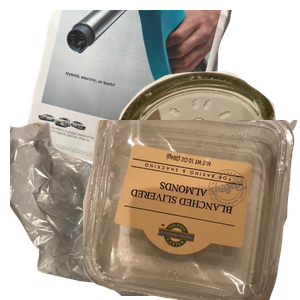glass: (89, 69, 300, 249)
paper: (20, 10, 244, 190)
plastic: (83, 120, 300, 300)
trash: (10, 120, 231, 300)
